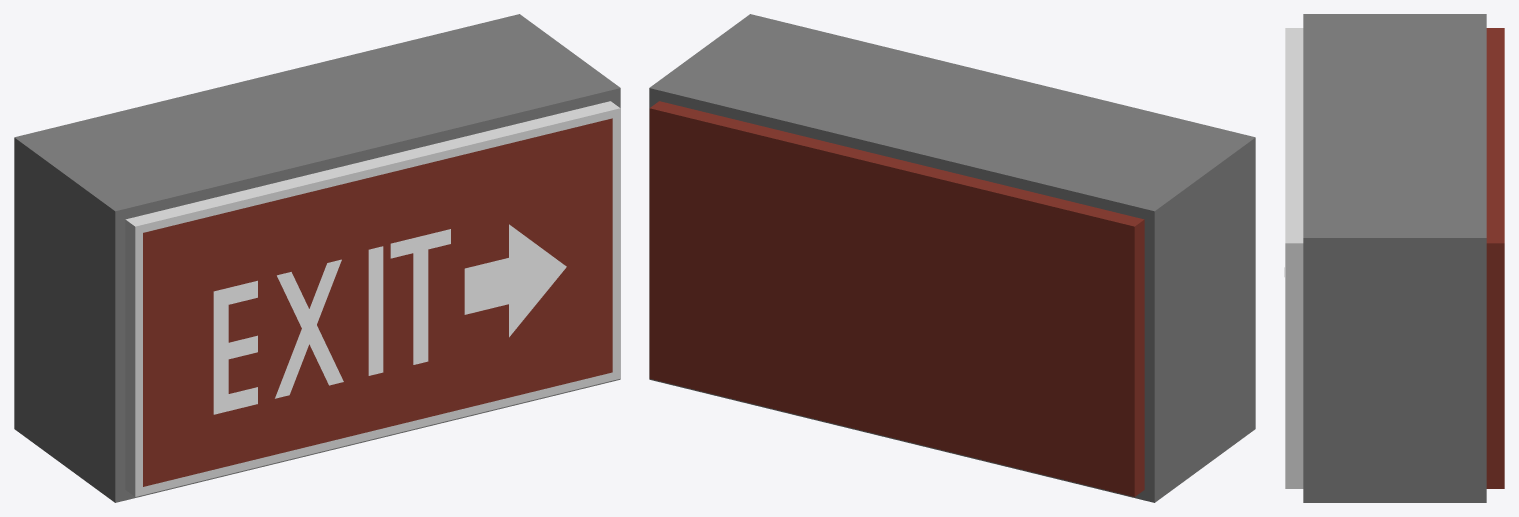
The model's file is officeExit.glb.
3 views of the same model, side by side, from view 1: azimuth 30°, elevation 25°; view 2: azimuth 150°, elevation 25°; view 3: azimuth 270°, elevation 25° (orthographic). The views are drawn at different scales.
Visible parts, largest first — view 1: Cube.006_1; view 2: Cube.006_1; view 3: Cube.006_1.
Boxes of the visible parts, left/top/right/bottom form: Cube.006_1: left=14, top=14, right=620, bottom=502; Cube.006_1: left=649, top=14, right=1255, bottom=502; Cube.006_1: left=1284, top=14, right=1504, bottom=502.
Bounding box in the file's own units: 0.4723 × 0.2604 × 0.1963.
